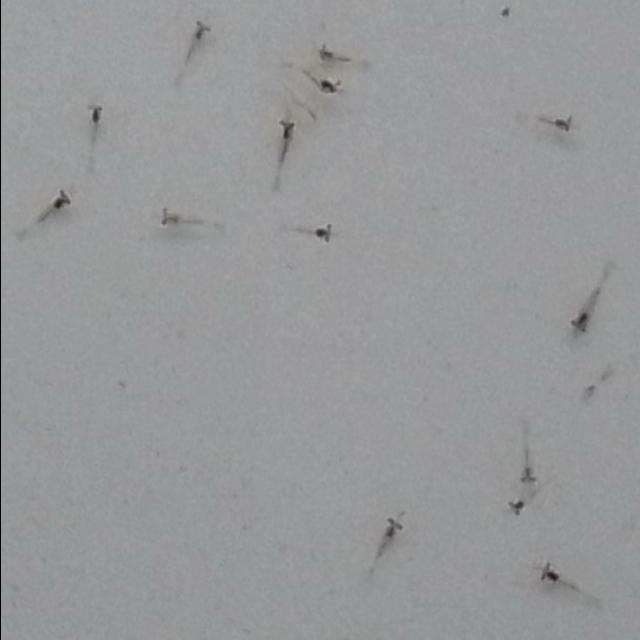shrimp-seed: (562, 293, 596, 337), (39, 184, 74, 224), (374, 510, 404, 556), (313, 38, 349, 68), (542, 109, 575, 137), (516, 449, 540, 487), (276, 108, 298, 146), (537, 558, 563, 586), (188, 18, 214, 46), (315, 74, 343, 98), (154, 205, 182, 229), (85, 102, 108, 130), (312, 218, 334, 244), (506, 494, 528, 518)
